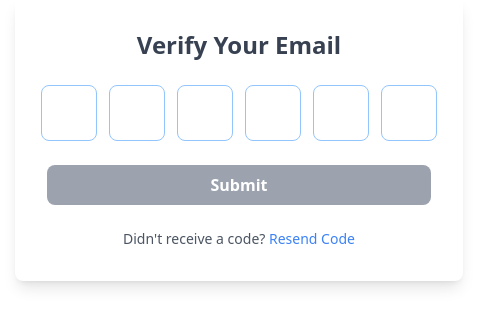
Test: EmailVerification Component › shows "An error occurred" if a network error occurs during resend
The image size is (479, 327).
Click the button with test id "resend-code-button". click: click(312, 239)
box: [269,229,355,249]
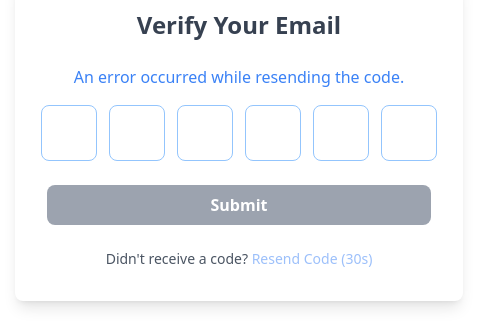
expect the text "An error occurred while resending the code." is shown: met, box [47,65,431,89]
